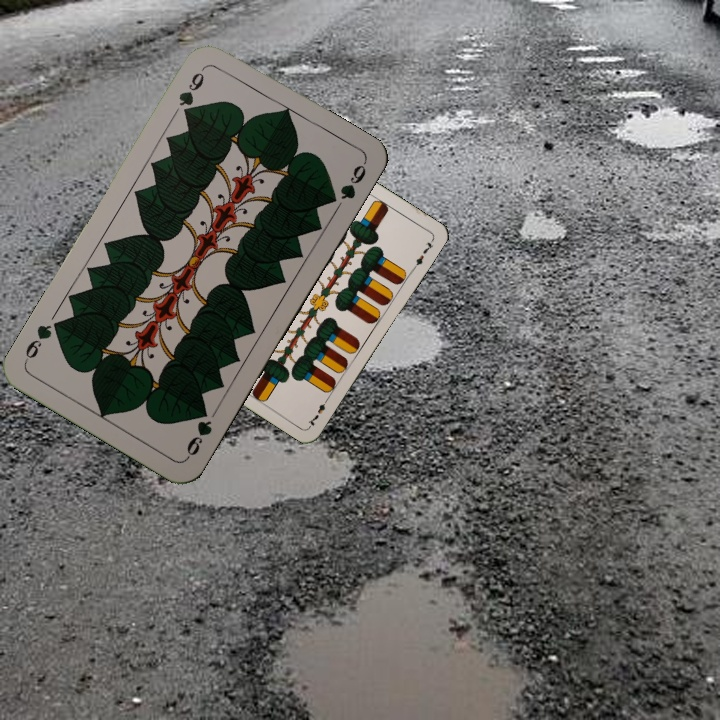E7: (304, 393, 332, 429)
G9: (182, 403, 215, 462), (174, 63, 208, 120)
